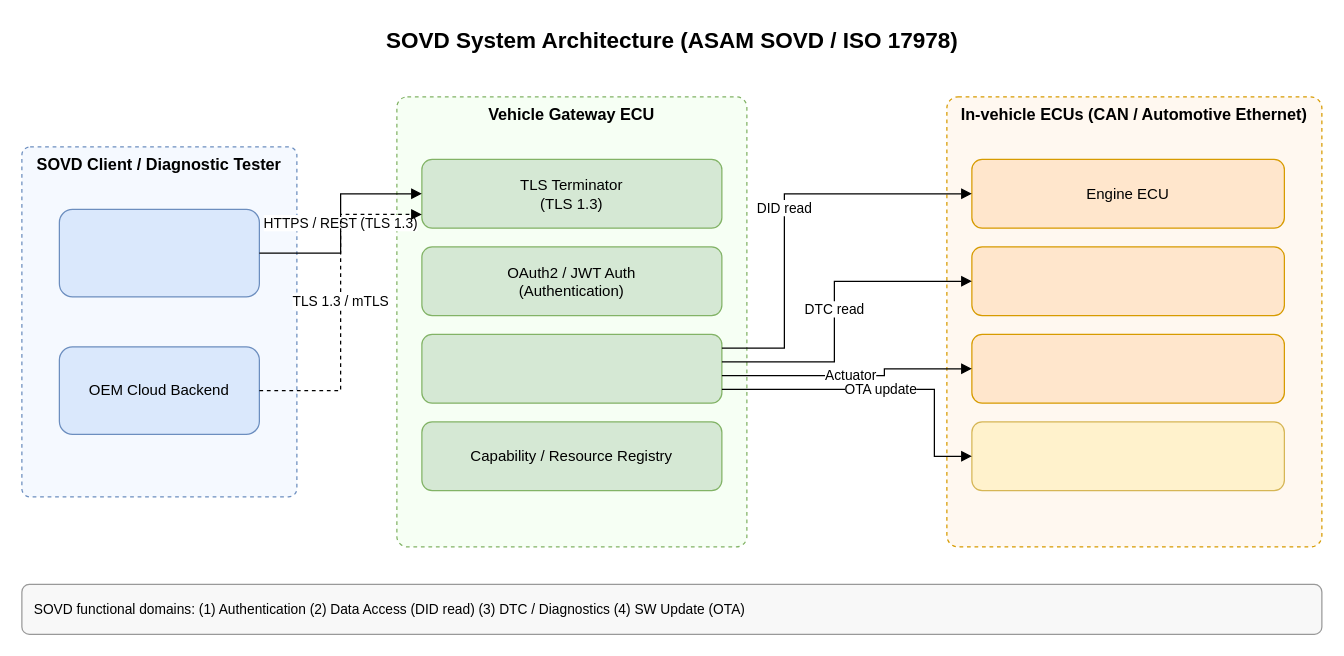
The diagram is 1344 pixels wide and 656 high, and some of its shapes have lost their labels. The centre of each missing label's shape, as x and y in pixels:
"Body ECU" belongs at [1127,368].
"Brake ECU" belongs at [1127,281].
"OTA Update Manager" belongs at [1127,456].
"SOVD HTTP API (REST resources)" belongs at [571,368].
"Workshop Laptop (SOVD Tester)" belongs at [158,252].
